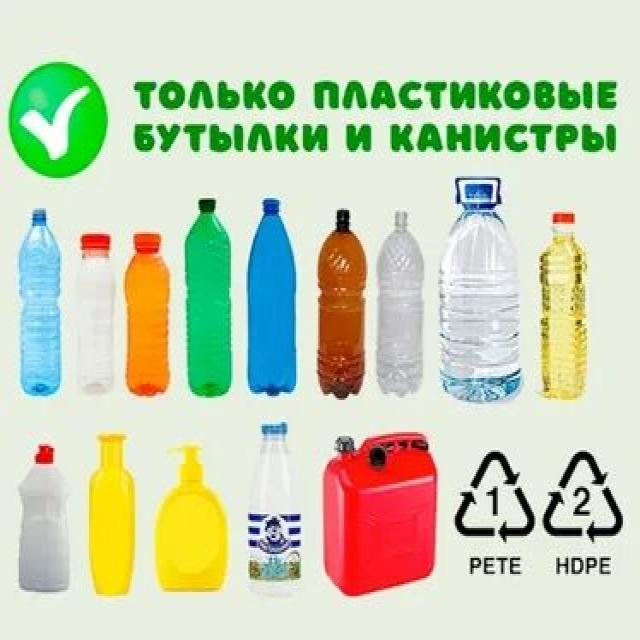blue: (17, 208, 63, 398)
brown: (316, 208, 366, 400)
green: (184, 196, 232, 396)
